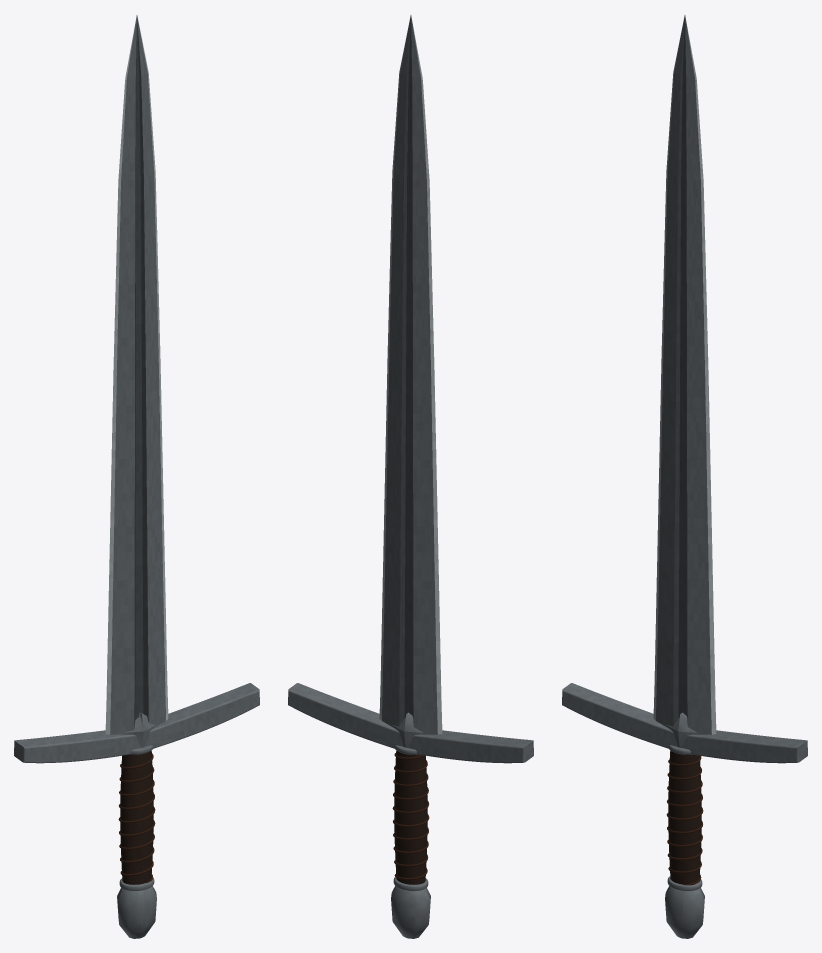
The model's file is corven_sword.glb.
3 views of the same model, side by side, from view 1: azimuth 30°, elevation 25°; view 2: azimuth 150°, elevation 25°; view 3: azimuth 330°, elevation 25° (orthographic).
Parts seen in each view (by area): view 1: oiled-dark-iron, unpolished-fuller, silver-honed-edge, brown-leather-grip, leather-overlap-lip; view 2: oiled-dark-iron, unpolished-fuller, silver-honed-edge, brown-leather-grip, leather-overlap-lip; view 3: oiled-dark-iron, unpolished-fuller, silver-honed-edge, brown-leather-grip, leather-overlap-lip.
Part boxes in pixels (bbox=[...]): oiled-dark-iron: bbox=[14, 15, 259, 938]; unpolished-fuller: bbox=[134, 16, 148, 728]; silver-honed-edge: bbox=[105, 18, 168, 734]; brown-leather-grip: bbox=[120, 750, 153, 884]; leather-overlap-lip: bbox=[118, 753, 155, 882]; oiled-dark-iron: bbox=[288, 15, 533, 938]; unpolished-fuller: bbox=[399, 16, 413, 725]; silver-honed-edge: bbox=[379, 18, 442, 734]; brown-leather-grip: bbox=[394, 750, 427, 884]; leather-overlap-lip: bbox=[392, 753, 429, 879]; oiled-dark-iron: bbox=[562, 15, 807, 938]; unpolished-fuller: bbox=[673, 16, 687, 725]; silver-honed-edge: bbox=[653, 18, 716, 734]; brown-leather-grip: bbox=[668, 750, 701, 884]; leather-overlap-lip: bbox=[666, 755, 703, 885].
Bounding box in the file's own units: 0.342 × 1.28 × 0.0448.
5 materials, 5 textured.
